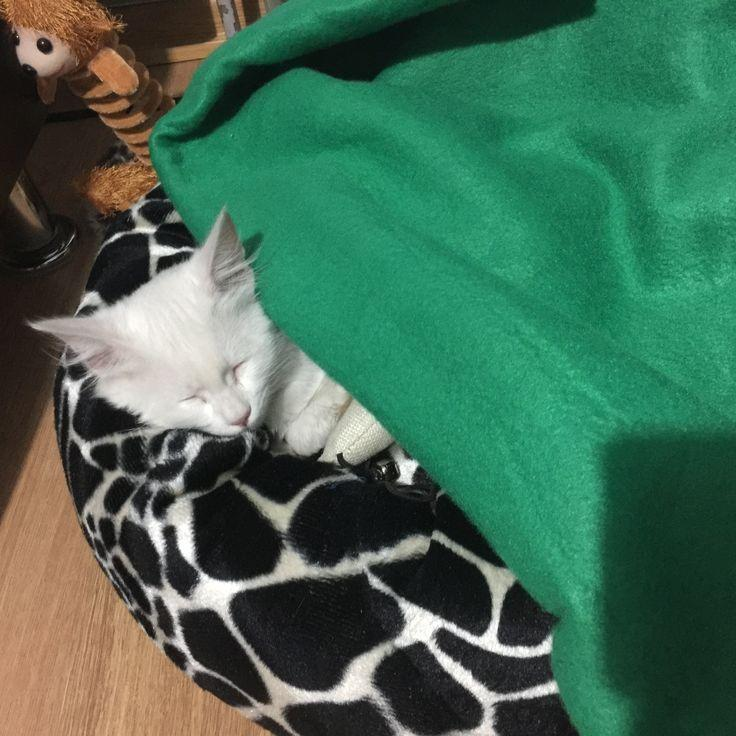kedo: (31, 213, 286, 437)
